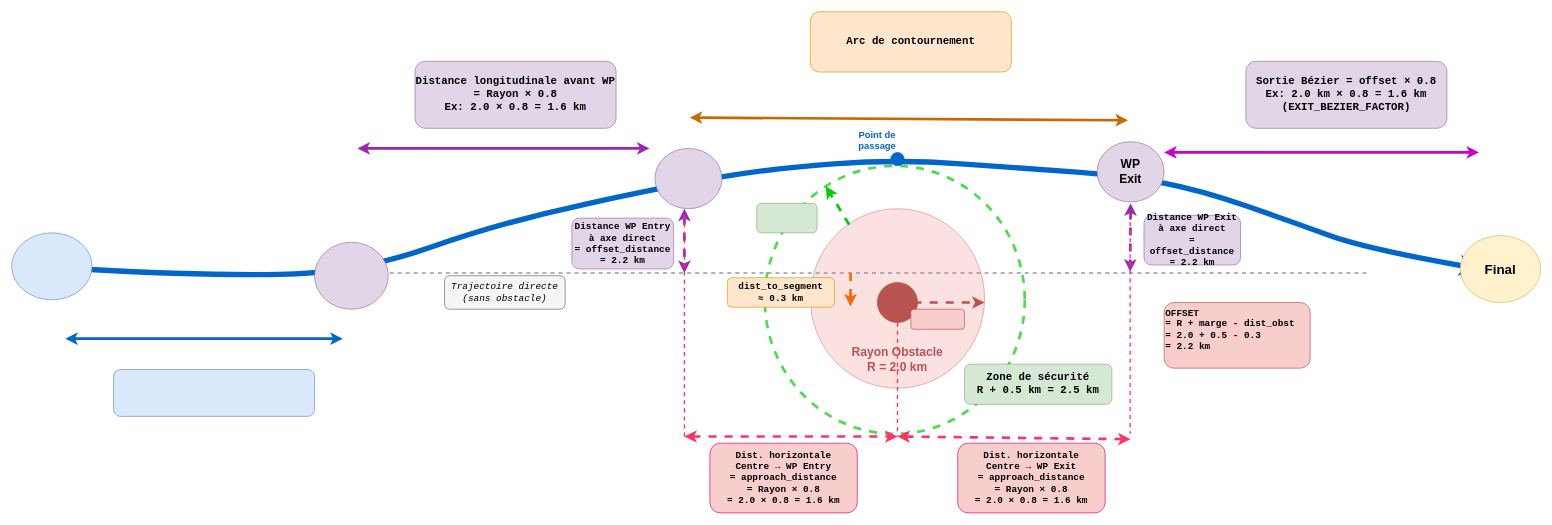
The diagram is 1552 pixels wide and 525 high, and some of its shapes have lost their labels. Here are the shapes that lost their labels. From the top down, the centre of each, then its label:
point (688, 178): WP Entry
point (786, 218): Marge 0.5 km
point (51, 266): START
point (351, 275): End Initial Flight
point (897, 302): OBSTACLE Centre
point (937, 319): 2.0 km
point (214, 392): Vol Initial
